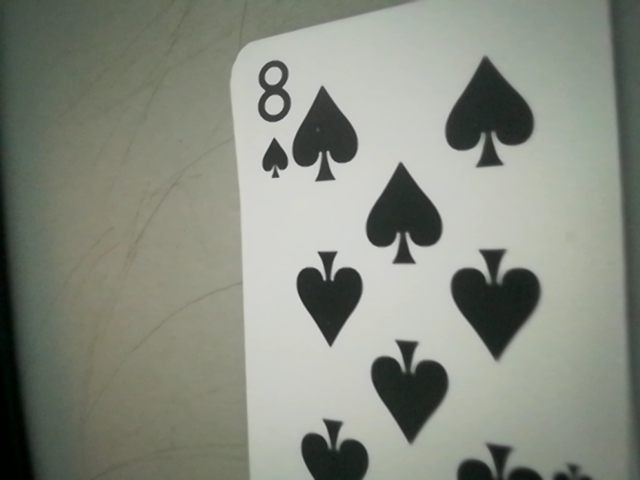ht 8: (240, 53, 305, 190)
